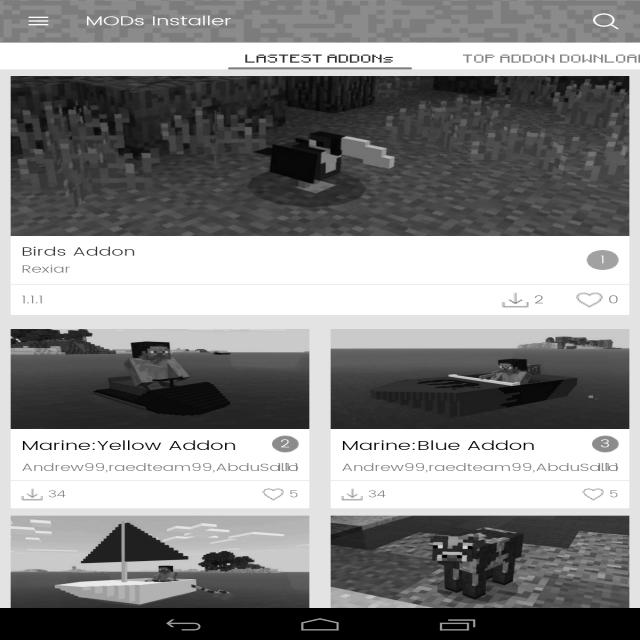ImageButton: (9, 0, 68, 43)
ImageView: (11, 76, 629, 236), (11, 329, 309, 429), (331, 329, 629, 429), (11, 516, 309, 616), (331, 516, 629, 616), (586, 250, 618, 270), (576, 292, 603, 308), (502, 292, 528, 308), (21, 488, 43, 501), (262, 488, 284, 501), (341, 488, 363, 501), (582, 488, 604, 501)
TextView: (11, 429, 277, 456), (331, 429, 597, 456), (11, 456, 309, 480), (331, 456, 629, 480), (86, 11, 232, 31), (21, 243, 136, 261), (463, 54, 640, 64), (580, 5, 632, 38), (245, 54, 395, 64), (266, 456, 309, 479), (586, 456, 629, 479), (21, 261, 70, 278), (22, 292, 44, 308), (48, 487, 66, 502), (368, 487, 386, 502), (608, 292, 619, 308), (534, 292, 544, 308), (280, 436, 290, 452), (600, 436, 610, 452), (289, 487, 299, 502), (609, 487, 619, 502), (600, 252, 605, 268)
